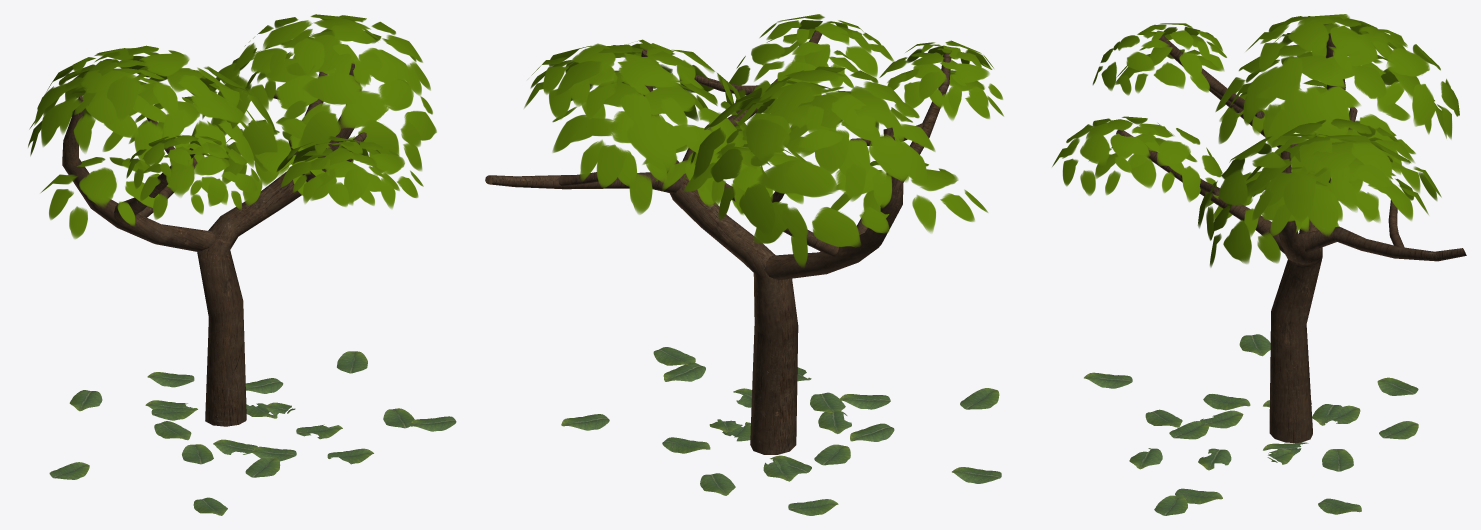
3 views of the same model, side by side, from view 1: azimuth 30°, elevation 25°; view 2: azimuth 150°, elevation 25°; view 3: azimuth 270°, elevation 25° (orthographic). The views are drawn at different scales.
Visible parts, largest first — view 1: Tree_4; view 2: Tree_4; view 3: Tree_4.
Boxes of the visible parts, box(x1,y1,x2,y2) form: Tree_4: box(28, 14, 456, 515); Tree_4: box(485, 14, 1003, 515); Tree_4: box(1052, 14, 1466, 515).
Bounding box in the file's own units: 6.27 × 5.33 × 5.46.
3 materials, 3 textured.
